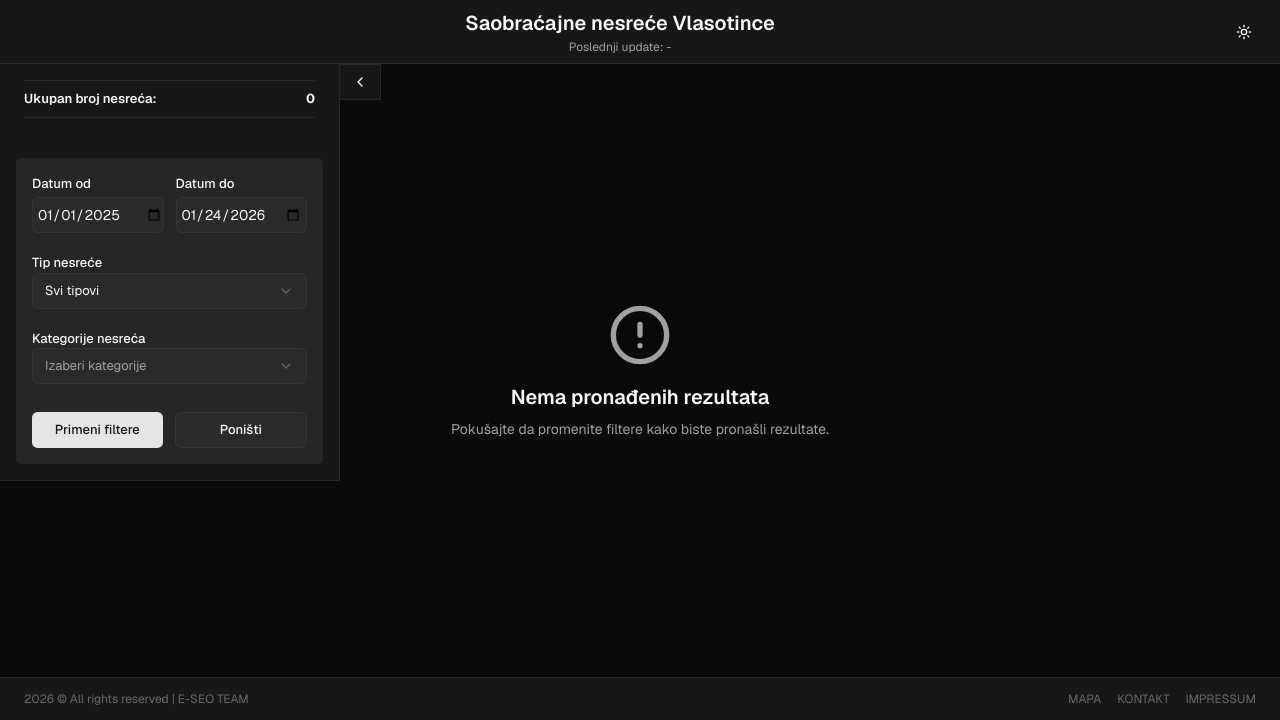
Scenario: Homepage Filters › should allow entering end date
Type "2025-01-20" into the date field with test id "date-input-endDate".
click(242, 215); type("2025-01-20")  # box [176,197,308,233]
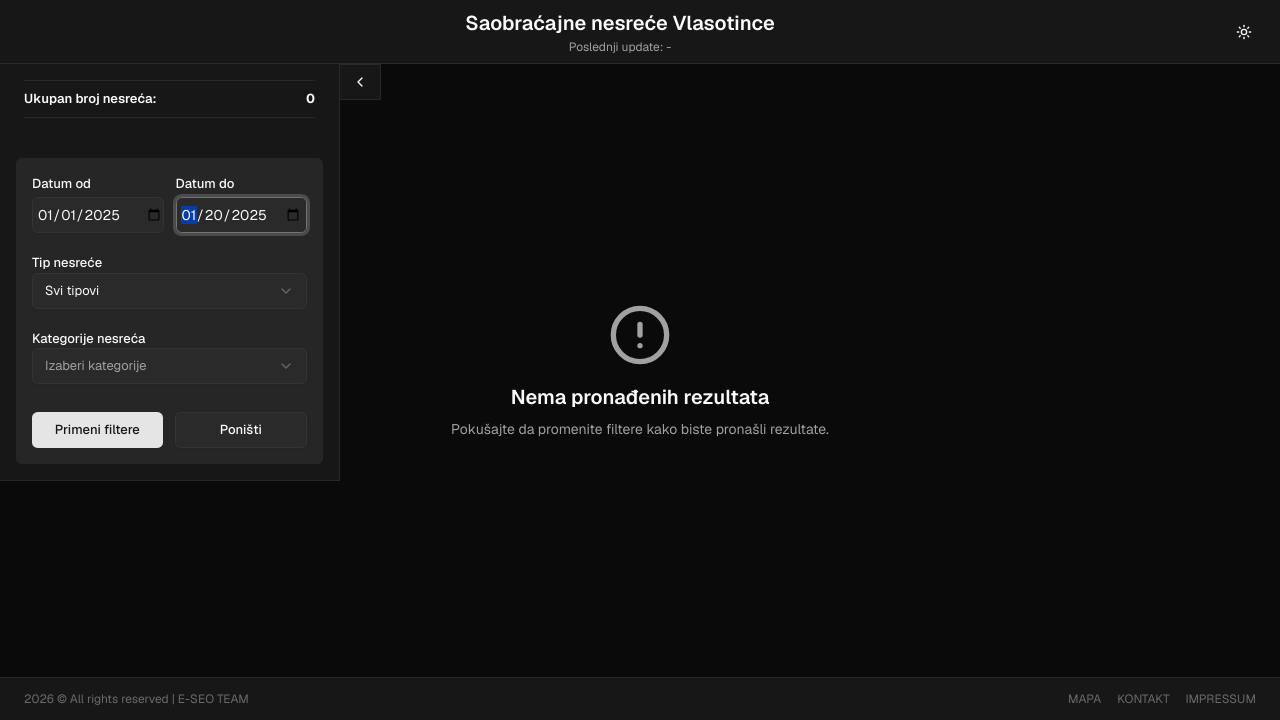
Expected: the date field with test id "date-input-endDate" holds "2025-01-20", [176,197,308,233]
